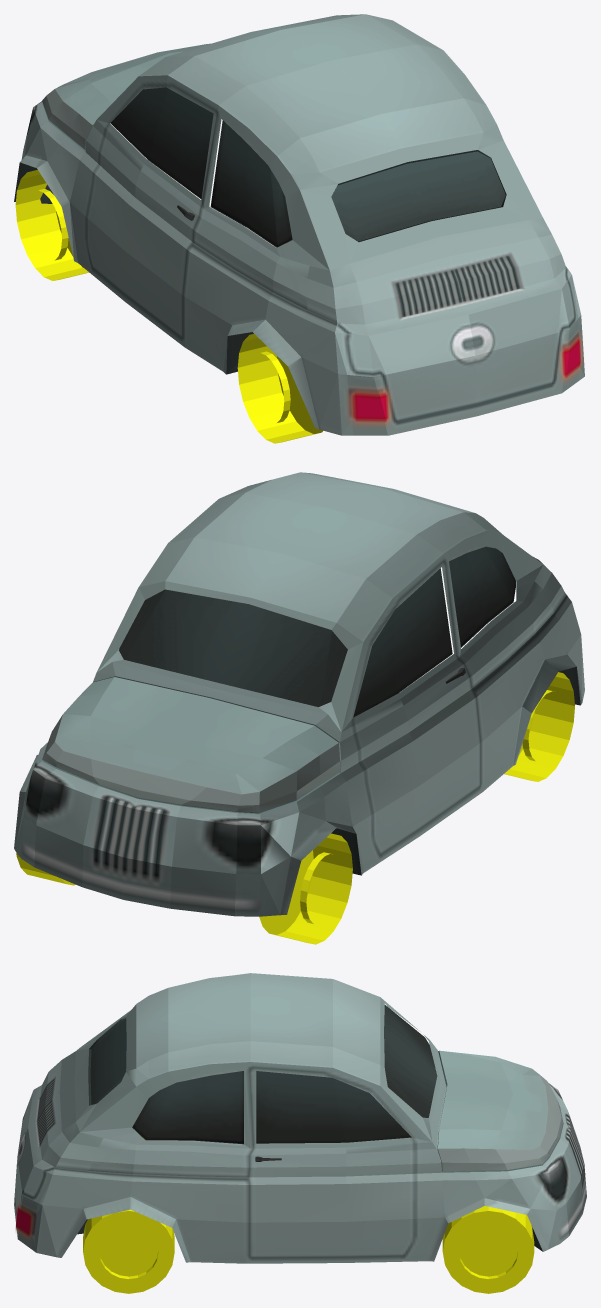
3 renders of one model, top to bottom at view 1: azimuth 30°, elevation 25°; view 2: azimuth 150°, elevation 25°; view 3: azimuth 270°, elevation 25°, orthographic. The views are drawn at different scales.
Parts seen in each view (by area): view 1: taxi06, tyre1, tyre3, light1; view 2: taxi06, tyre3, tyre1; view 3: taxi06, tyre4, tyre2, light1.
Part boxes in pixels (box(x1,y1,x2,y2)): taxi06: box(14, 14, 584, 435); tyre1: box(237, 334, 322, 443); tyre3: box(15, 169, 88, 280); light1: box(347, 332, 583, 426); taxi06: box(14, 472, 584, 916); tyre3: box(259, 833, 352, 944); tyre1: box(504, 672, 574, 781); taxi06: box(14, 973, 586, 1263); tyre4: box(442, 1206, 534, 1293); tyre2: box(83, 1209, 174, 1293); light1: box(15, 1201, 34, 1240).
Bounding box in the file's own units: 0.5906 × 0.5349 × 1.18.
Materials: 2 (2 with a texture image).
